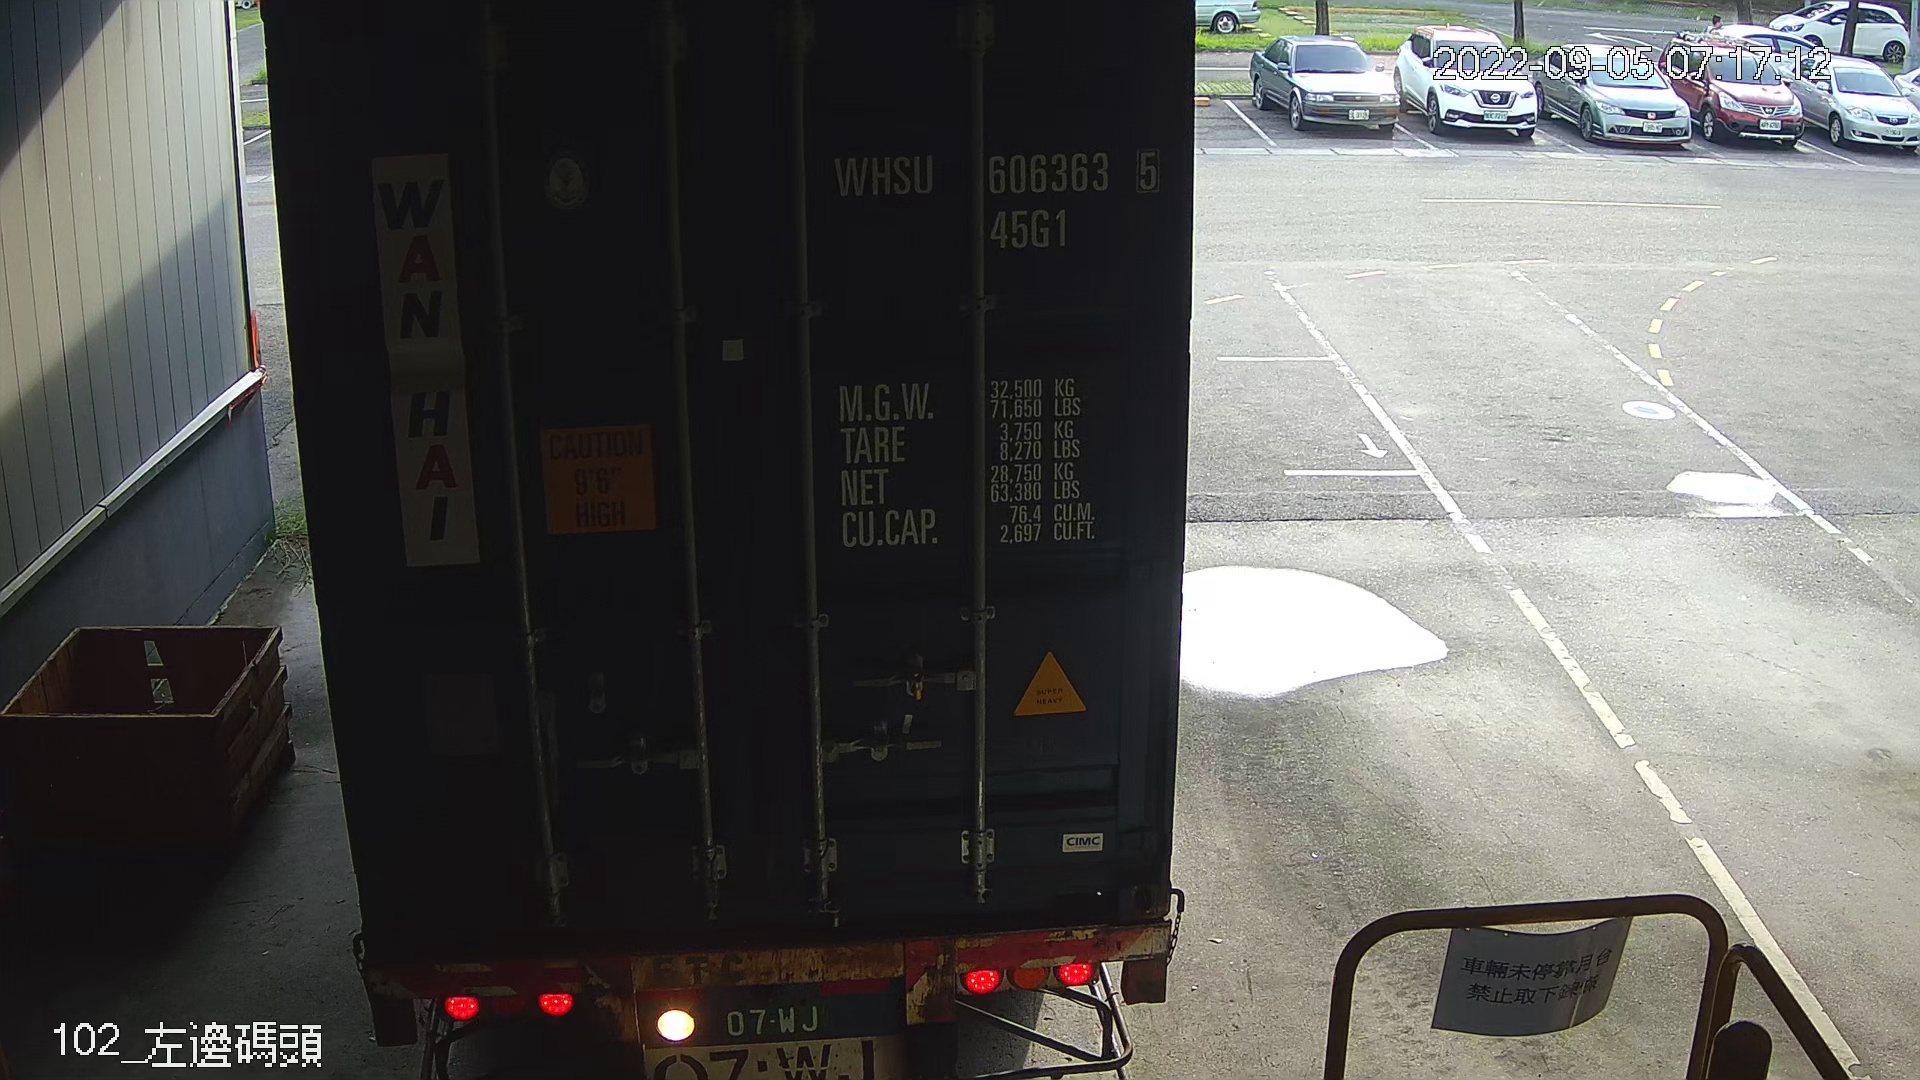container: (820, 135, 1174, 266)
